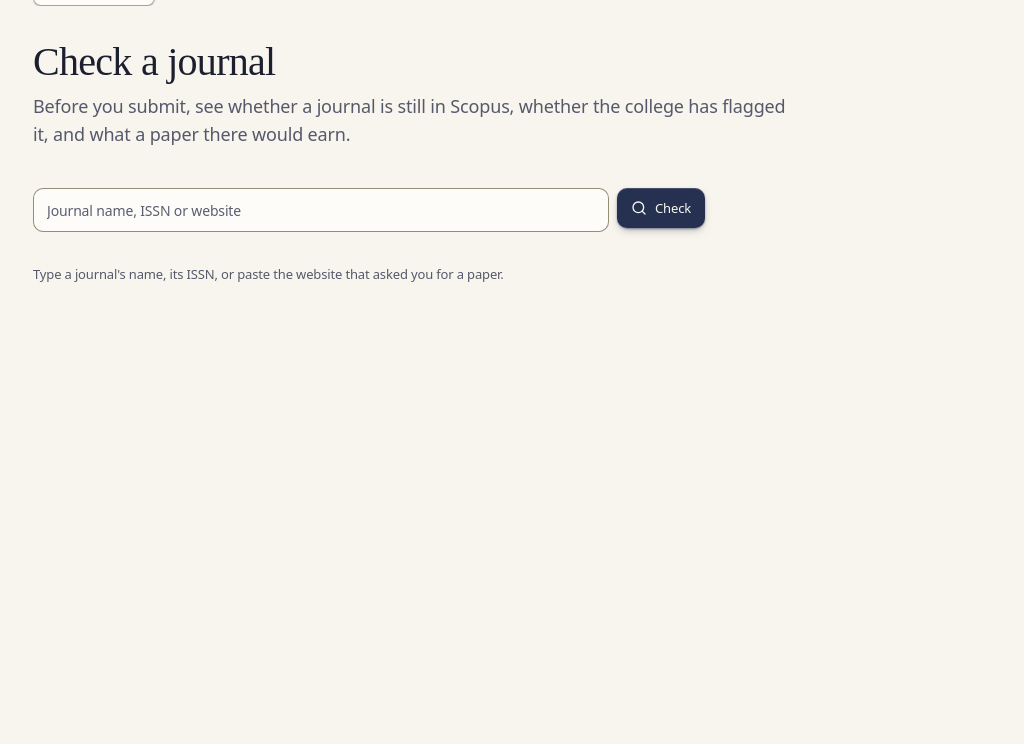
Check a journal › searches and shows the verdict, checks, colleagues and estimate
Type "solar energy" into the field labelled "Journal name, ISSN or website".
click(321, 210); type("solar energy")  # box x1=33 y1=188 x2=609 y2=232
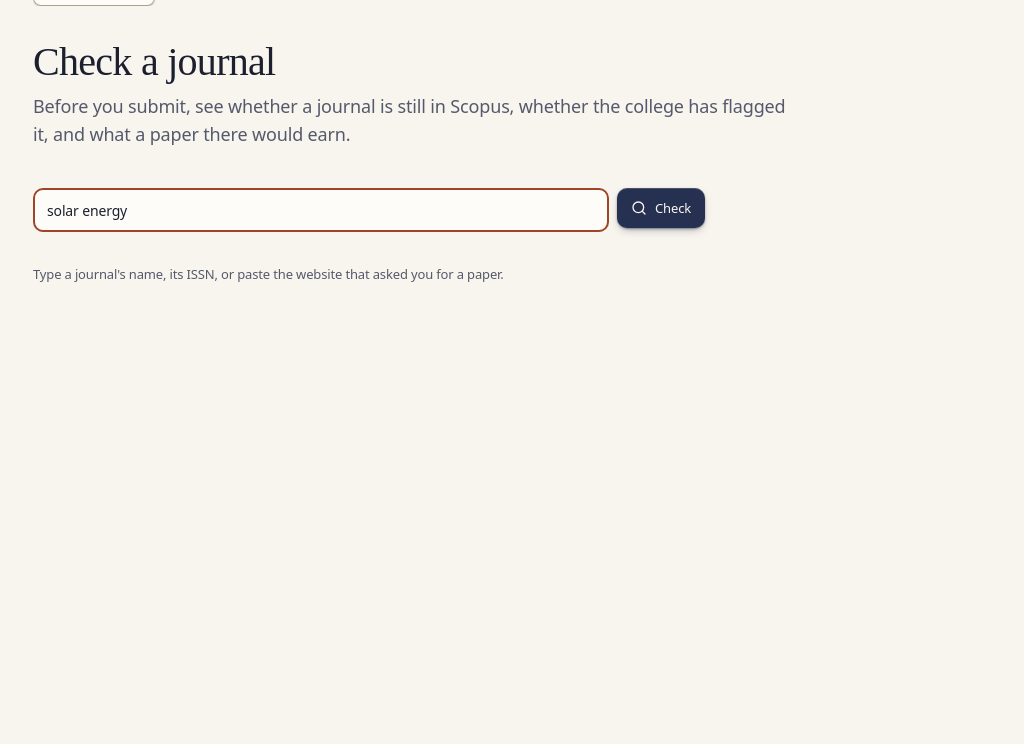
Click the button "Check".
click(661, 208)  # box x1=617 y1=188 x2=705 y2=228
(page scrolled)
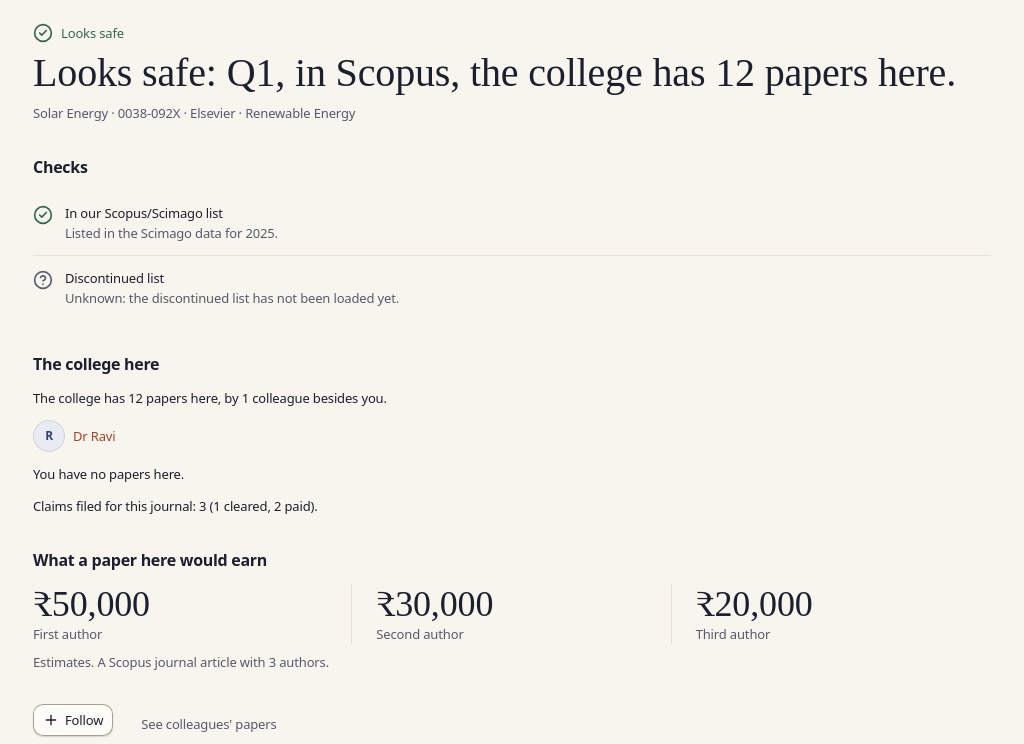
expect the text with test id "verdict" shows "Looks safe: Q1": met, box x1=33 y1=50 x2=956 y2=95
expect the text "Unknown: the discontinued list has not been loaded yet." is shown: met, box x1=65 y1=288 x2=399 y2=308
expect the text "First author" is shown: met, box x1=33 y1=625 x2=102 y2=643
